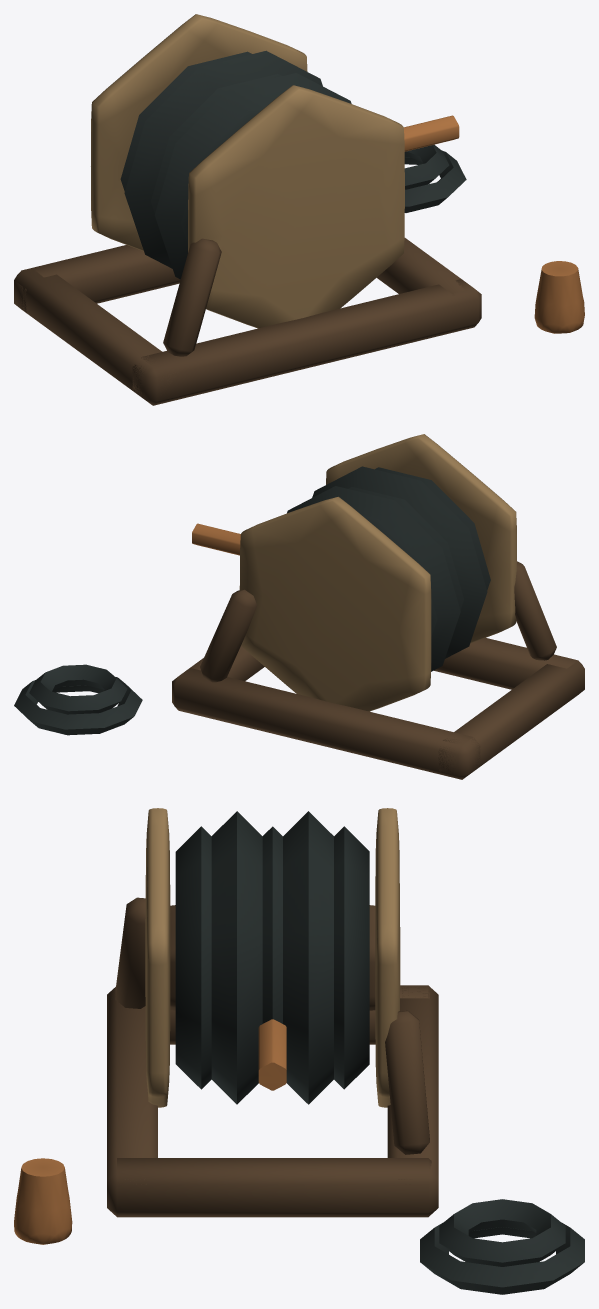
The model's file is hose_reel_a.glb.
The picture shows the model from 3 angles, top to bottom: view 1: azimuth 30°, elevation 25°; view 2: azimuth 150°, elevation 25°; view 3: azimuth 270°, elevation 25°; orthographic projection. The views are drawn at different scales.
Visible parts, largest first — view 1: Surface; view 2: Surface; view 3: Surface.
Boxes of the visible parts, x1,y1,x2,y2 form: Surface: (14,14,584,405); Surface: (14,434,584,779); Surface: (14,808,584,1294).
Size of the model in its own units: 2.54 by 1.37 by 2.24.
